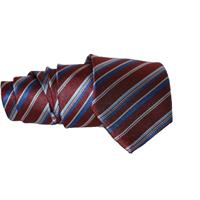tie: (2, 54, 172, 152)
